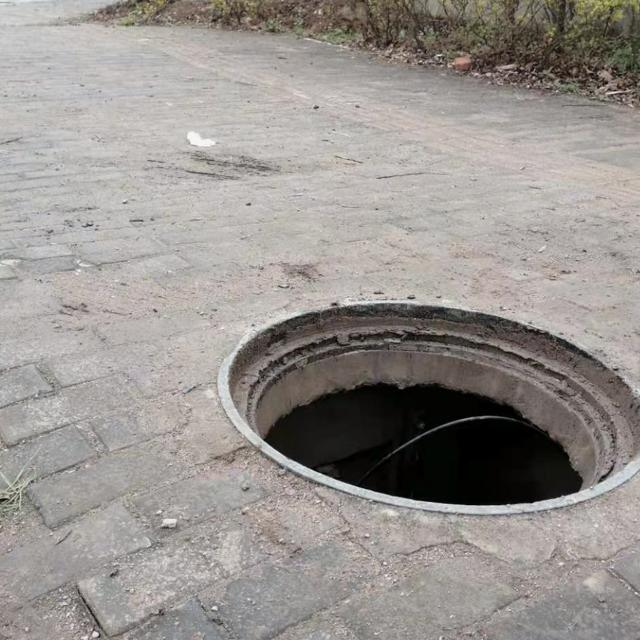lose: (216, 296, 640, 512)
